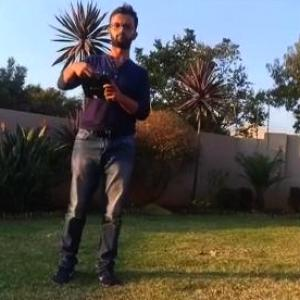follow: (40, 1, 152, 298)
